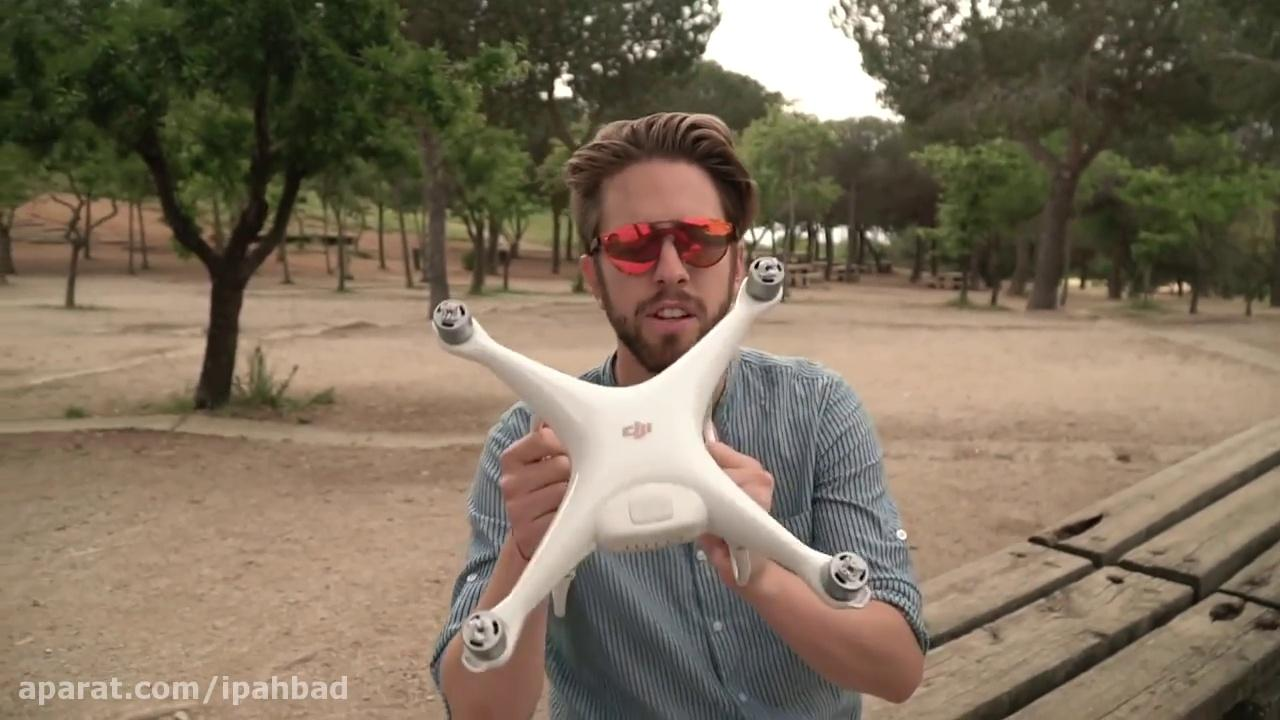drone: (431, 254, 872, 674)
